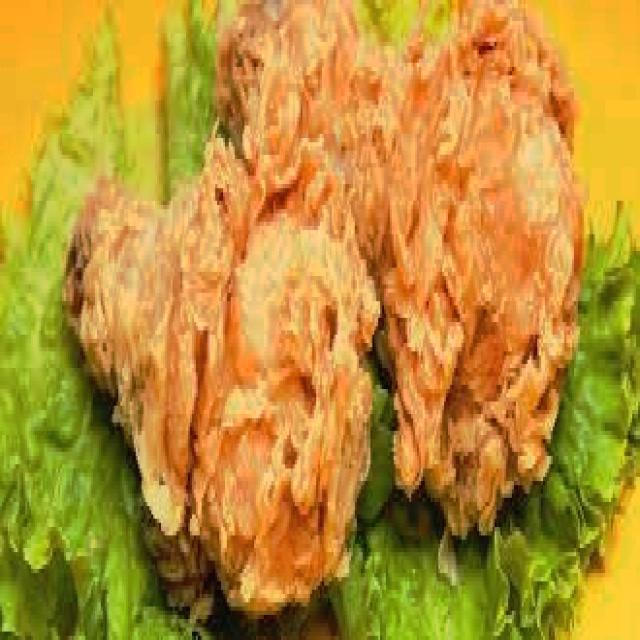fried_chicken: (223, 0, 578, 531), (66, 175, 376, 610)
